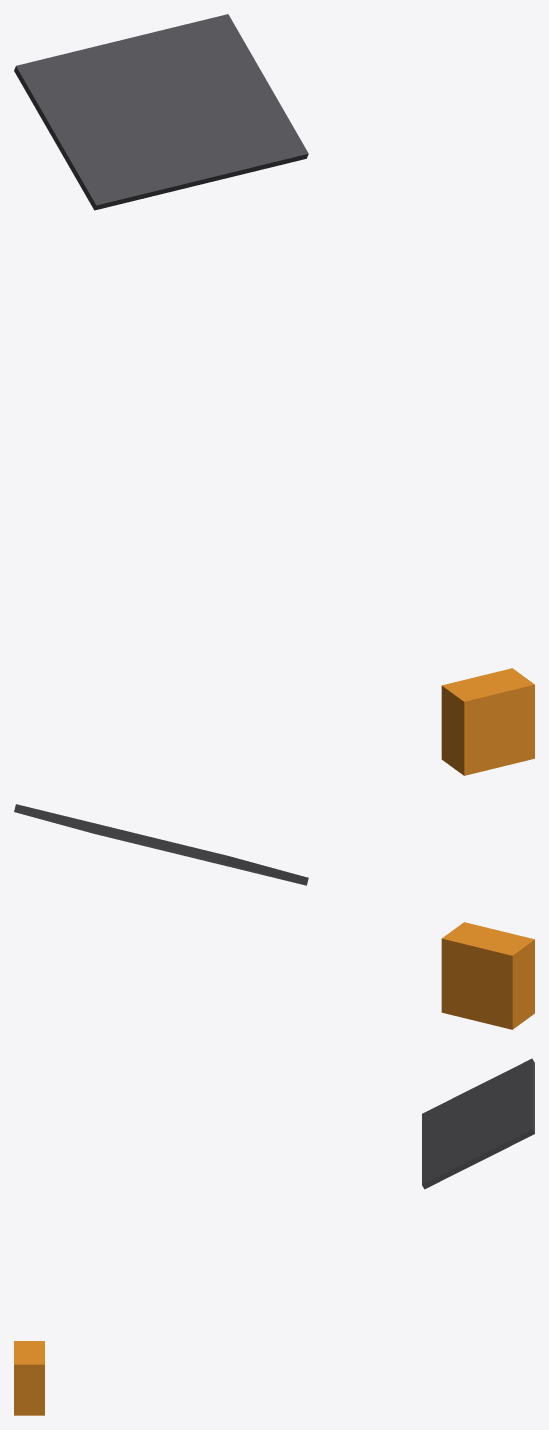
Rendered from Avionik.glb.
3 renders of one model, top to bottom at view 1: azimuth 30°, elevation 25°; view 2: azimuth 150°, elevation 25°; view 3: azimuth 270°, elevation 25°, orthographic. The views are drawn at different scales.
Parts seen in each view (by area): view 1: Mounting_Plate, FC_CubeOrange; view 2: FC_CubeOrange, Mounting_Plate; view 3: Mounting_Plate, FC_CubeOrange.
Part boxes in pixels (bbox=[...]): Mounting_Plate: bbox=[14, 14, 308, 210]; FC_CubeOrange: bbox=[441, 668, 534, 775]; FC_CubeOrange: bbox=[441, 922, 534, 1029]; Mounting_Plate: bbox=[14, 804, 308, 885]; Mounting_Plate: bbox=[422, 1058, 534, 1189]; FC_CubeOrange: bbox=[14, 1341, 44, 1415].
Bounding box in the file's own units: 0.12 × 0.2436 × 0.3713.
